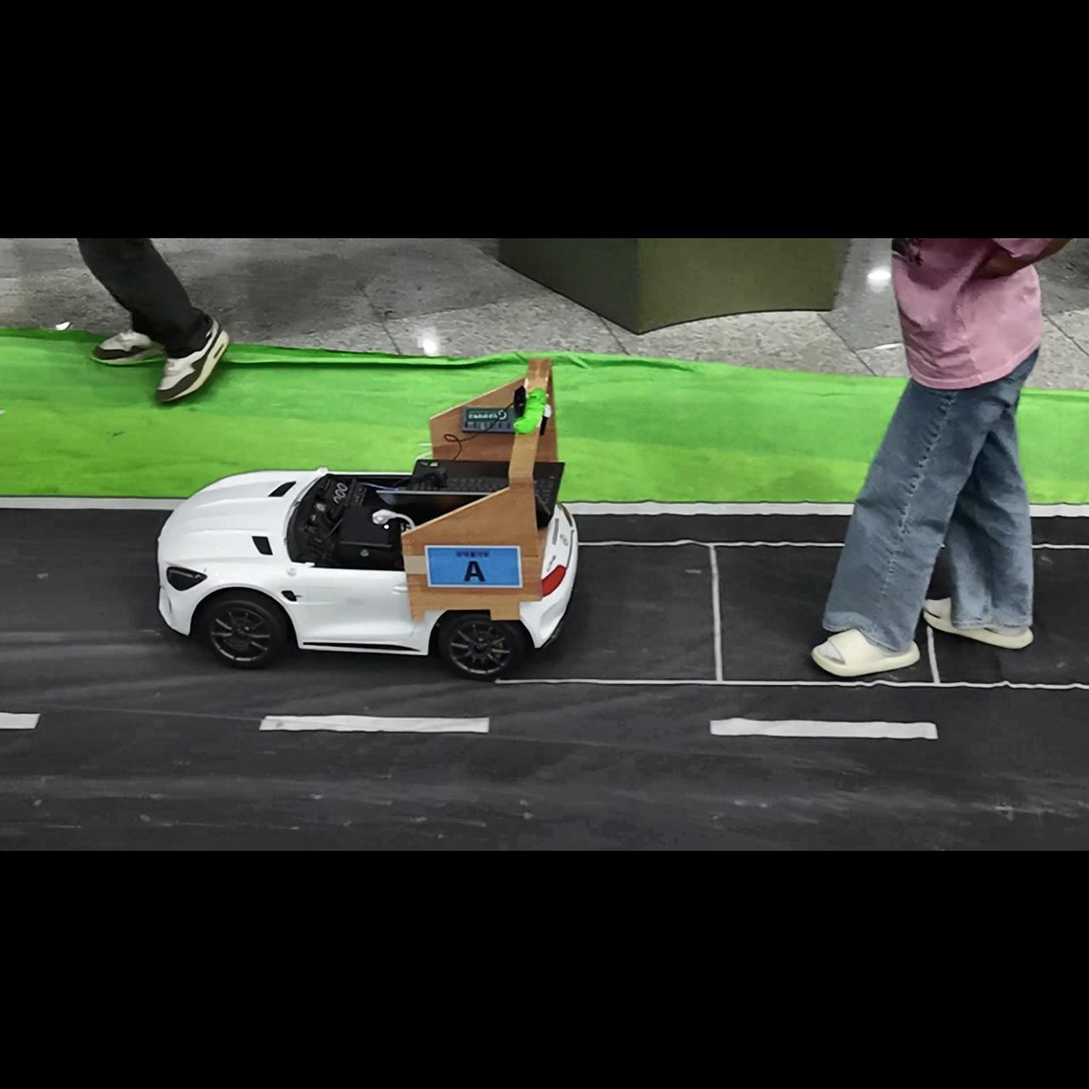broken_line: (710, 717, 938, 739), (259, 715, 490, 732), (0, 712, 41, 729)
